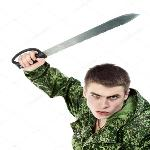Golok: (9, 12, 144, 70)
